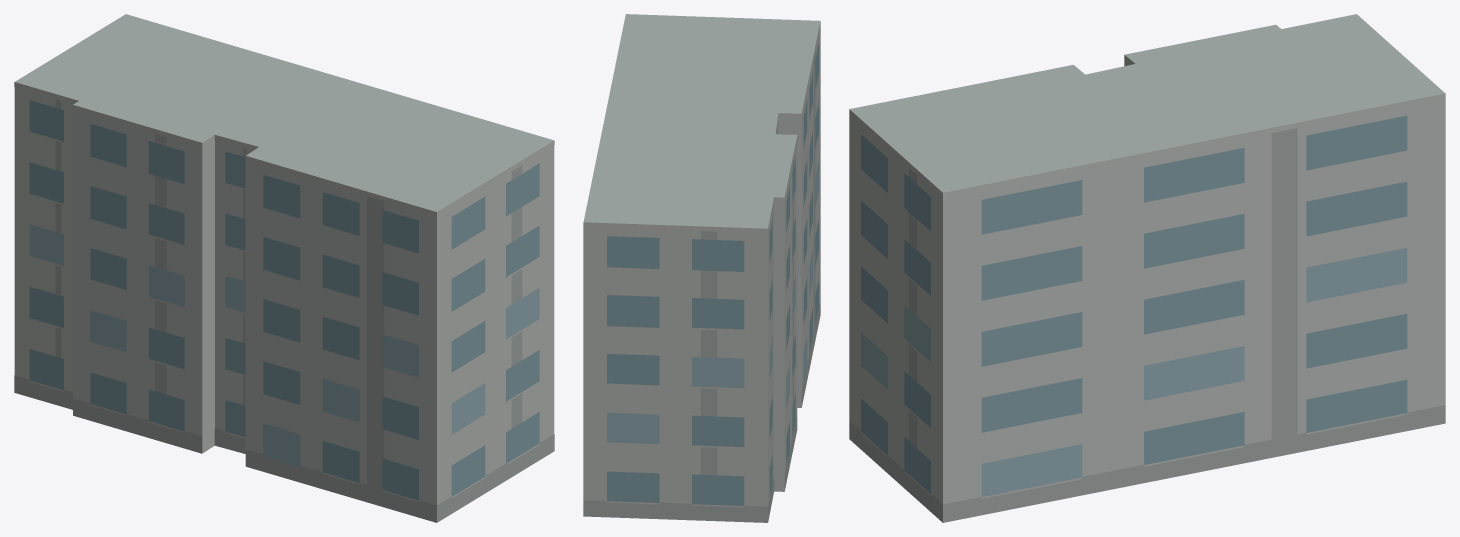
File: survey-upis-32932120.glb
3 renders of one model, left to right at view 1: azimuth 30°, elevation 25°; view 2: azimuth 150°, elevation 25°; view 3: azimuth 270°, elevation 25°, orthographic. The views are drawn at different scales.
Parts seen in each view (by area): view 1: survey-upis-32932120.tmp; view 2: survey-upis-32932120.tmp; view 3: survey-upis-32932120.tmp.
Part boxes in pixels (<box>): survey-upis-32932120.tmp: <box>14,14,554,522</box>; survey-upis-32932120.tmp: <box>583,14,820,522</box>; survey-upis-32932120.tmp: <box>849,14,1445,522</box>.
Size of the model in its own units: 17.73 by 15.25 by 24.97.
